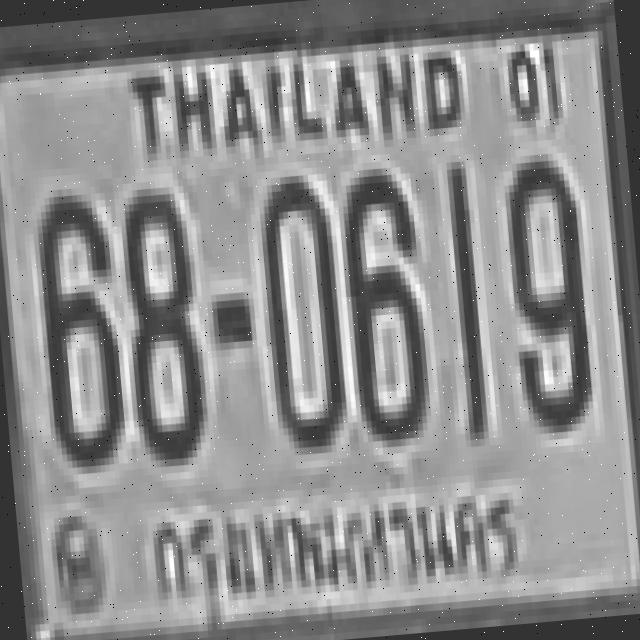0: (251, 166, 345, 450)
1: (441, 158, 488, 436), (443, 158, 485, 430)
6: (30, 185, 127, 462), (334, 159, 428, 442)
8: (115, 178, 209, 462)
9: (496, 148, 590, 425)
Bangkok: (142, 469, 530, 632)
